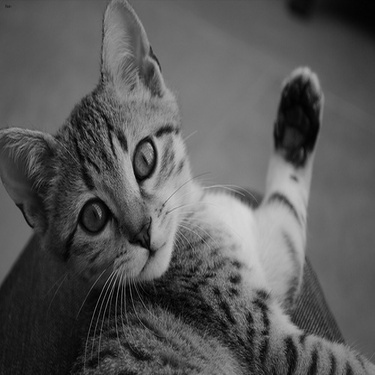cat: (5, 5, 362, 365)
